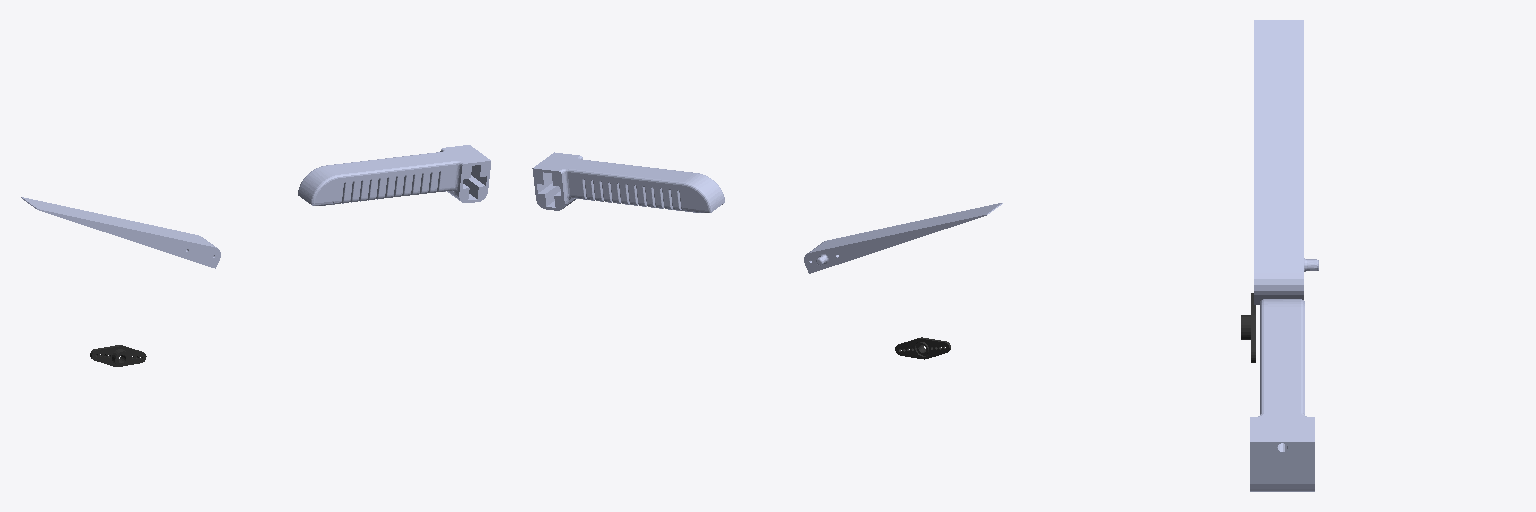
robot.urdf — soft hybrid gripper URDF:
<?xml version="1.0" encoding="utf-8"?>
<!-- This URDF was automatically created by SolidWorks to URDF Exporter! Originally created by [author] ([email redacted])
     Commit Version: 1.5.1-0-g916b5db  Build Version: 1.5.7152.31018
     For more information, please see http://wiki.ros.org/sw_urdf_exporter -->
<robot
  name="soft hybrid gripper URDF">
  <link
    name="base_link1">
    <inertial>
      <origin
        xyz="0.000176879397903153 0.0171745476796605 0.00798016750513526"
        rpy="0 0 0" />
      <mass
        value="0.117842634947847" />
      <inertia
        ixx="0.000366414508469255"
        ixy="1.72345228700625E-05"
        ixz="6.18123429105568E-06"
        iyy="6.80036131268536E-05"
        iyz="-2.47128778299121E-05"
        izz="0.000409756967424389" />
    </inertial>
    <visual>
      <origin
        xyz="0 0 0"
        rpy="0 0 0" />
      <geometry>
        <mesh
          filename="package://dual_description/meshes/base_link1.STL" />
      </geometry>
      <material
        name="">
        <color
          rgba="0.792156862745098 0.819607843137255 0.933333333333333 1" />
      </material>
    </visual>
    <collision>
      <origin
        xyz="0 0 0"
        rpy="0 0 0" />
      <geometry>
        <mesh
          filename="package://dual_description/meshes/base_link1.STL" />
      </geometry>
    </collision>
  </link>
  <link
    name="rigid_link1">
    <inertial>
      <origin
        xyz="0.00246082393825808 0.00389924820387103 0.0131191901389871"
        rpy="0 0 0" />
      <mass
        value="0.0445322519868914" />
      <inertia
        ixx="1.52433784006711E-05"
        ixy="5.80078149789572E-09"
        ixz="-1.18934068666226E-06"
        iyy="1.3594081592835E-05"
        iyz="6.27237025112029E-08"
        izz="6.46351202019257E-06" />
    </inertial>
    <visual>
      <origin
        xyz="0 0 0"
        rpy="0 0 0" />
      <geometry>
        <mesh
          filename="package://dual_description/meshes/rigid_link.STL" />
      </geometry>
      <material
        name="">
        <color
          rgba="0.250980392156863 0.250980392156863 0.250980392156863 1" />
      </material>
    </visual>
    <collision>
      <origin
        xyz="0 0 0"
        rpy="0 0 0" />
      <geometry>
        <mesh
          filename="package://dual_description/meshes/rigid_link.STL" />
      </geometry>
    </collision>
  </link>
  <joint
    name="rigid_rev_joint1"
    type="continuous">
    <origin
      xyz="-0.018 0.0604 0.031"
      rpy="0 -0.71 0" />
    <parent
      link="base_link1" />
    <child
      link="rigid_link1" />
    <axis
      xyz="0 -1 0" />
    <limit
      lower="-3.14159"
      upper="3.14159"
      effort="0"
      velocity="1" />
  </joint>
  <link
    name="rigid_tip_link1">
    <inertial>
      <origin
        xyz="0.00774095772540574 -0.000850000000000101 -0.0611318896625747"
        rpy="0 0 0" />
      <mass
        value="0.0134476259243688" />
      <inertia
        ixx="4.91541805903652E-06"
        ixy="-3.45478559862873E-21"
        ixz="8.62881671033877E-07"
        iyy="4.67899851023964E-06"
        iyz="-2.20620740059224E-20"
        izz="1.28227238645747E-06" />
    </inertial>
    <visual>
      <origin
        xyz="0 0 0"
        rpy="0 0 0" />
      <geometry>
        <mesh
          filename="package://dual_description/meshes/rigid_tip_link.STL" />
      </geometry>
      <material
        name="">
        <color
          rgba="0.792156862745098 0.819607843137255 0.933333333333333 1" />
      </material>
    </visual>
    <collision>
      <origin
        xyz="0 0 0"
        rpy="0 0 0" />
      <geometry>
        <mesh
          filename="package://dual_description/meshes/rigid_tip_link.STL" />
      </geometry>
    </collision>
  </link>
  <joint
    name="rigid_tip_joint1"
    type="fixed">
    <origin
      xyz="0.029389 -0.00085 0.11906"
      rpy="0 -0.13252 -3.1416" />
    <parent
      link="rigid_link1" />
    <child
      link="rigid_tip_link1" />
    <axis
      xyz="0 1 0" />
  </joint>
  <link
    name="soft_tip_link1">
    <inertial>
      <origin
        xyz="-0.0672819098084754 -5.77278610192078E-08 -0.00123656065002749"
        rpy="0 0 0" />
      <mass
        value="0.0267549348618611" />
      <inertia
        ixx="2.96189216662522E-06"
        ixy="6.273448191828E-11"
        ixz="-5.21931039474125E-06"
        iyy="3.93840137119762E-05"
        iyz="-4.51104709728545E-12"
        izz="3.84440209403678E-05" />
    </inertial>
    <visual>
      <origin
        xyz="0 0 0"
        rpy="0 0 0" />
      <geometry>
        <mesh
          filename="package://dual_description/meshes/soft_tip_link.STL" />
      </geometry>
      <material
        name="">
        <color
          rgba="0.792156862745098 0.819607843137255 0.933333333333333 1" />
      </material>
    </visual>
    <collision>
      <origin
        xyz="0 0 0"
        rpy="0 0 0" />
      <geometry>
        <mesh
          filename="package://dual_description/meshes/soft_tip_link.STL" />
      </geometry>
    </collision>
  </link>
  <joint
    name="soft_tip_joint1"
    type="fixed">
    <origin
      xyz="0.11681 0.061 0.098742"
      rpy="0 -0.66549 0" />
    <parent
      link="base_link1" />
    <child
      link="soft_tip_link1" />
    <axis
      xyz="0 0 0" />
  </joint>
</robot>

--- Facts derived from the render (not from the file) ---
Views: 3 orthographic renders of the robot side by side, from view 1: azimuth 30°, elevation 25°; view 2: azimuth 150°, elevation 25°; view 3: azimuth 270°, elevation 25°.
Model soft hybrid gripper URDF with 4 links and 3 joints (1 continuous, 2 fixed), rooted at base_link1, posed all joints at 0.
Links seen in each view (by area): view 1: soft_tip_link1, rigid_tip_link1, rigid_link1; view 2: soft_tip_link1, rigid_tip_link1, rigid_link1; view 3: rigid_tip_link1, soft_tip_link1, rigid_link1.
Link boxes in pixels (box(x1,y1,x2,y2)): soft_tip_link1: box(298, 145, 490, 205); rigid_tip_link1: box(21, 197, 220, 268); rigid_link1: box(90, 345, 146, 366); soft_tip_link1: box(532, 152, 724, 212); rigid_tip_link1: box(804, 203, 1002, 273); rigid_link1: box(895, 337, 950, 359); rigid_tip_link1: box(1254, 20, 1318, 304); soft_tip_link1: box(1250, 299, 1314, 491); rigid_link1: box(1241, 293, 1255, 362).
Size in the robot's own frame: 0.3115 by 0.0311 by 0.1174 metres.
3 mesh visuals loaded from 4 distinct referenced files (3 binary STL); not drawn: 1 (reference not matched to a file when rendering).